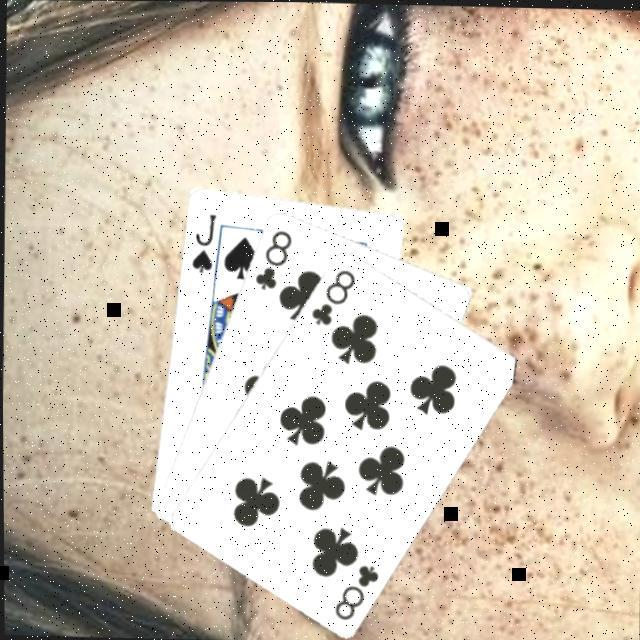8C: (327, 561, 380, 625), (305, 265, 356, 330), (248, 226, 292, 294)
JS: (185, 211, 216, 278)
